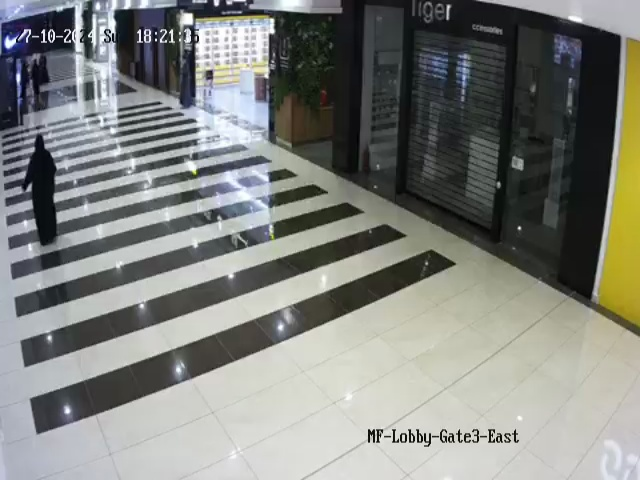female: (9, 127, 81, 256)
